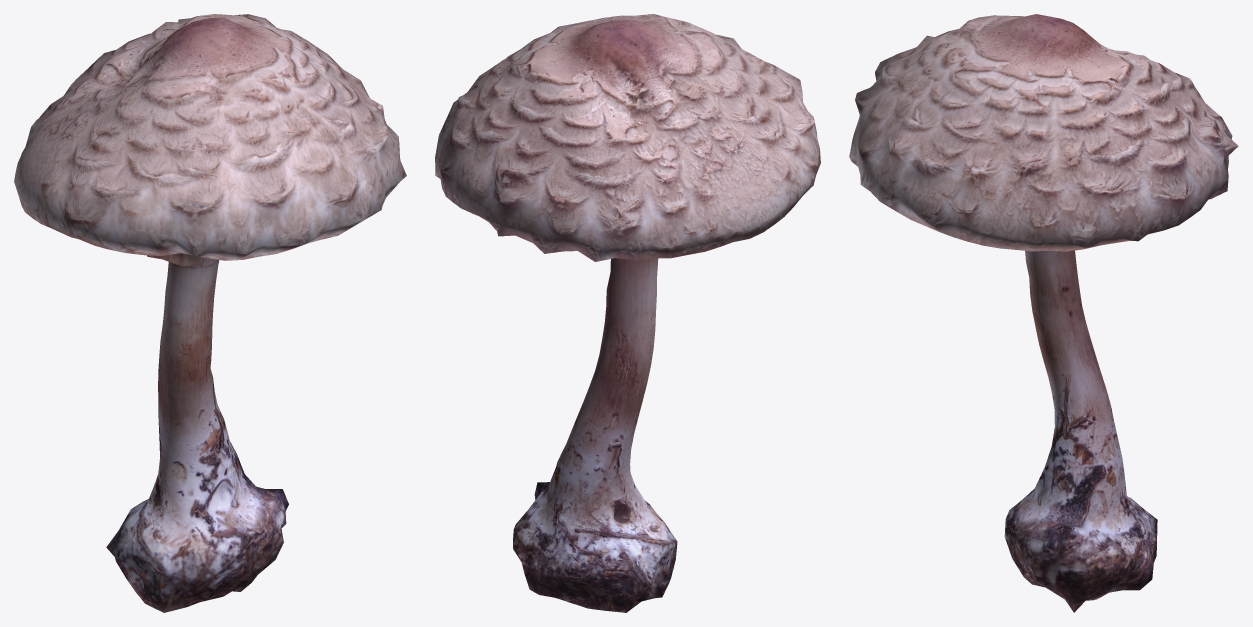
3 renders of one model, left to right at view 1: azimuth 30°, elevation 25°; view 2: azimuth 150°, elevation 25°; view 3: azimuth 270°, elevation 25°, orthographic. The views are drawn at different scales.
Visible parts, largest first — view 1: bedla_LOD0; view 2: bedla_LOD0; view 3: bedla_LOD0.
Boxes of the visible parts, box(x1,y1,x2,y2) form: bedla_LOD0: box(14, 14, 406, 612); bedla_LOD0: box(435, 14, 820, 612); bedla_LOD0: box(849, 14, 1238, 612).
Bounding box in the file's own units: 0.1824 × 0.301 × 0.1852.
Materials: 1 (1 with a texture image).
